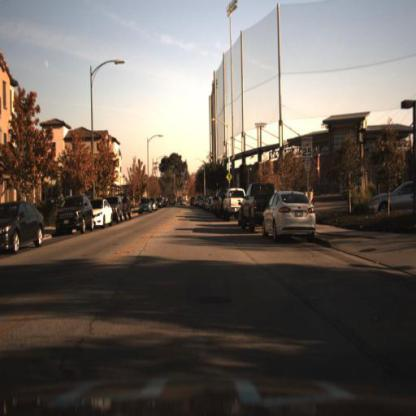car: (263, 189, 317, 244), (1, 201, 47, 255), (365, 178, 416, 221), (53, 193, 96, 240), (238, 183, 275, 234), (91, 197, 115, 233), (225, 187, 244, 221), (109, 195, 126, 225), (138, 197, 154, 215)
